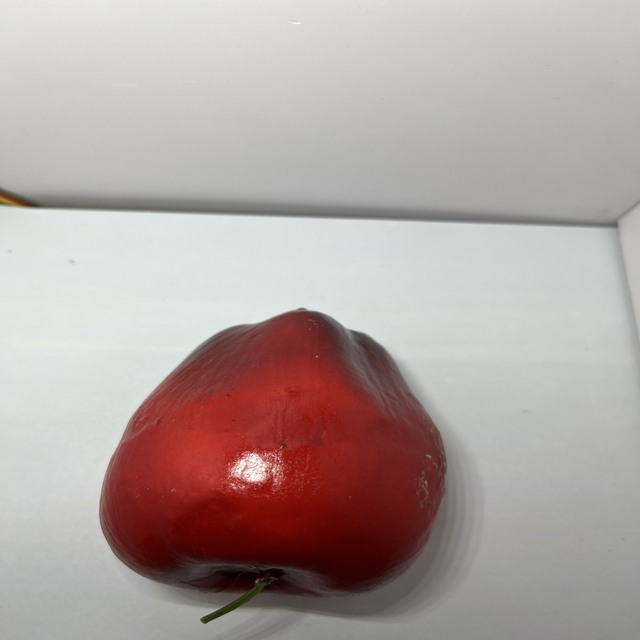Tao: (93, 299, 453, 603)
